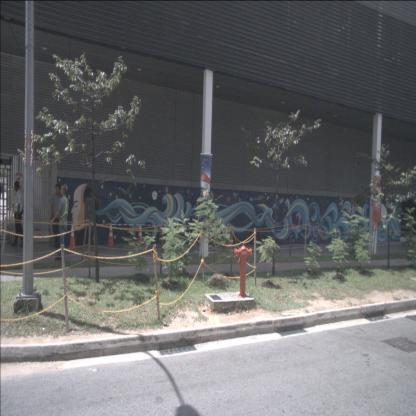cone: (136, 223, 145, 247), (107, 222, 115, 247), (69, 223, 76, 250)
